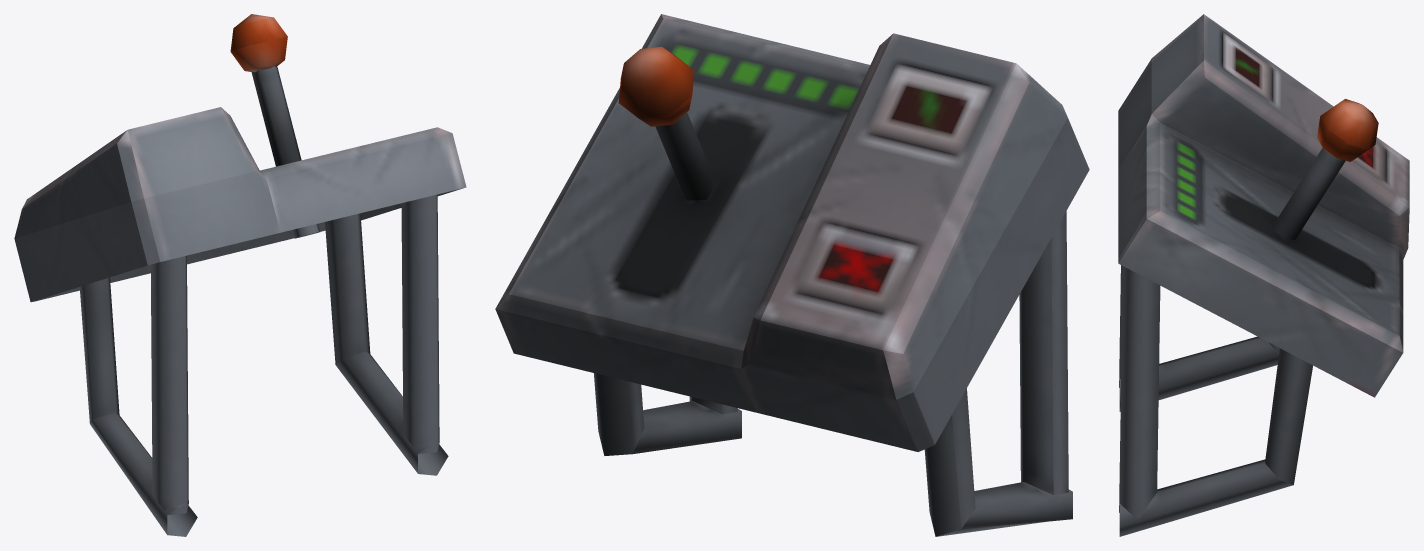
Rendered from controlboard.FBX.
3 renders of one model, left to right at view 1: azimuth 30°, elevation 25°; view 2: azimuth 150°, elevation 25°; view 3: azimuth 270°, elevation 25°, orthographic. The views are drawn at different scales.
Parts seen in each view (by area): view 1: control_board; view 2: control_board; view 3: control_board.
Part boxes in pixels (bbox=[...]): control_board: bbox=[14, 14, 466, 536]; control_board: bbox=[495, 14, 1089, 536]; control_board: bbox=[1118, 14, 1409, 536].
Bounding box in the file's own units: 262 × 206 × 313.
